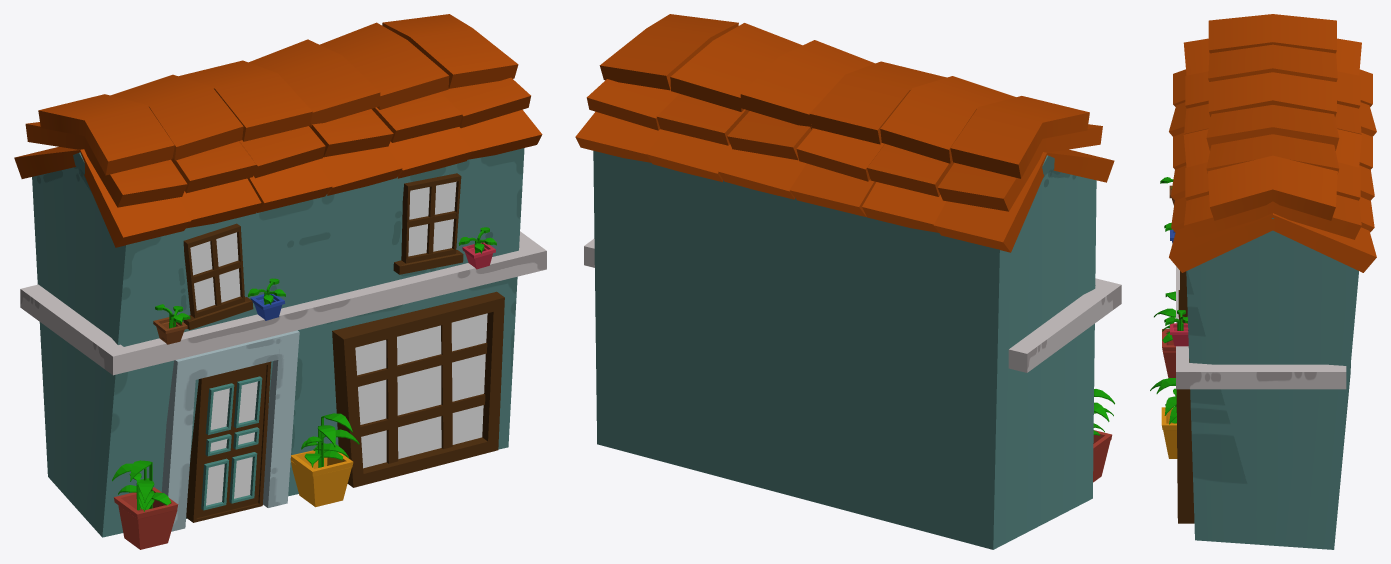
File: AzulClarocasa.fbx
3 views of the same model, side by side, from view 1: azimuth 30°, elevation 25°; view 2: azimuth 150°, elevation 25°; view 3: azimuth 270°, elevation 25° (orthographic). The views are drawn at different scales.
Parts seen in each view (by area): view 1: TEJAS_2_LADOS_BASE.003, pCube3.003, Cube.111, Cube.112, Cube.108, Cube.109, Cube.110, Cube.114, Cube.113, Cube.116, Cube.118, Cube.115 (+2 smaller); view 2: pCube3.003, TEJAS_2_LADOS_BASE.003, Cube.112, Cube.118; view 3: TEJAS_2_LADOS_BASE.003, pCube3.003, Cube.112, Cube.111, Cube.116, Cube.118, Cube.120, Cube.114.
Boxes of the visible parts, left/top/right/bottom form: TEJAS_2_LADOS_BASE.003: left=14, top=14, right=542, bottom=247; pCube3.003: left=32, top=148, right=524, bottom=537; Cube.111: left=332, top=291, right=504, bottom=487; Cube.112: left=20, top=231, right=546, bottom=375; Cube.108: left=161, top=330, right=299, bottom=531; Cube.109: left=201, top=376, right=262, bottom=510; Cube.110: left=186, top=361, right=271, bottom=522; Cube.114: left=393, top=173, right=463, bottom=274; Cube.113: left=183, top=223, right=253, bottom=329; Cube.116: left=290, top=413, right=359, bottom=507; Cube.118: left=112, top=460, right=178, bottom=549; Cube.115: left=248, top=278, right=285, bottom=320; pCube3.003: left=593, top=151, right=1096, bottom=549; TEJAS_2_LADOS_BASE.003: left=575, top=14, right=1114, bottom=252; Cube.112: left=584, top=239, right=1121, bottom=372; Cube.118: left=1093, top=389, right=1114, bottom=482; TEJAS_2_LADOS_BASE.003: left=1169, top=14, right=1376, bottom=272; pCube3.003: left=1186, top=218, right=1358, bottom=549; Cube.112: left=1176, top=266, right=1346, bottom=389; Cube.111: left=1176, top=359, right=1194, bottom=523; Cube.116: left=1150, top=378, right=1177, bottom=458; Cube.118: left=1154, top=291, right=1175, bottom=378; Cube.120: left=1164, top=310, right=1188, bottom=346; Cube.114: left=1178, top=271, right=1187, bottom=323.
Bounding box in the file's own units: 728 × 631 × 360.
